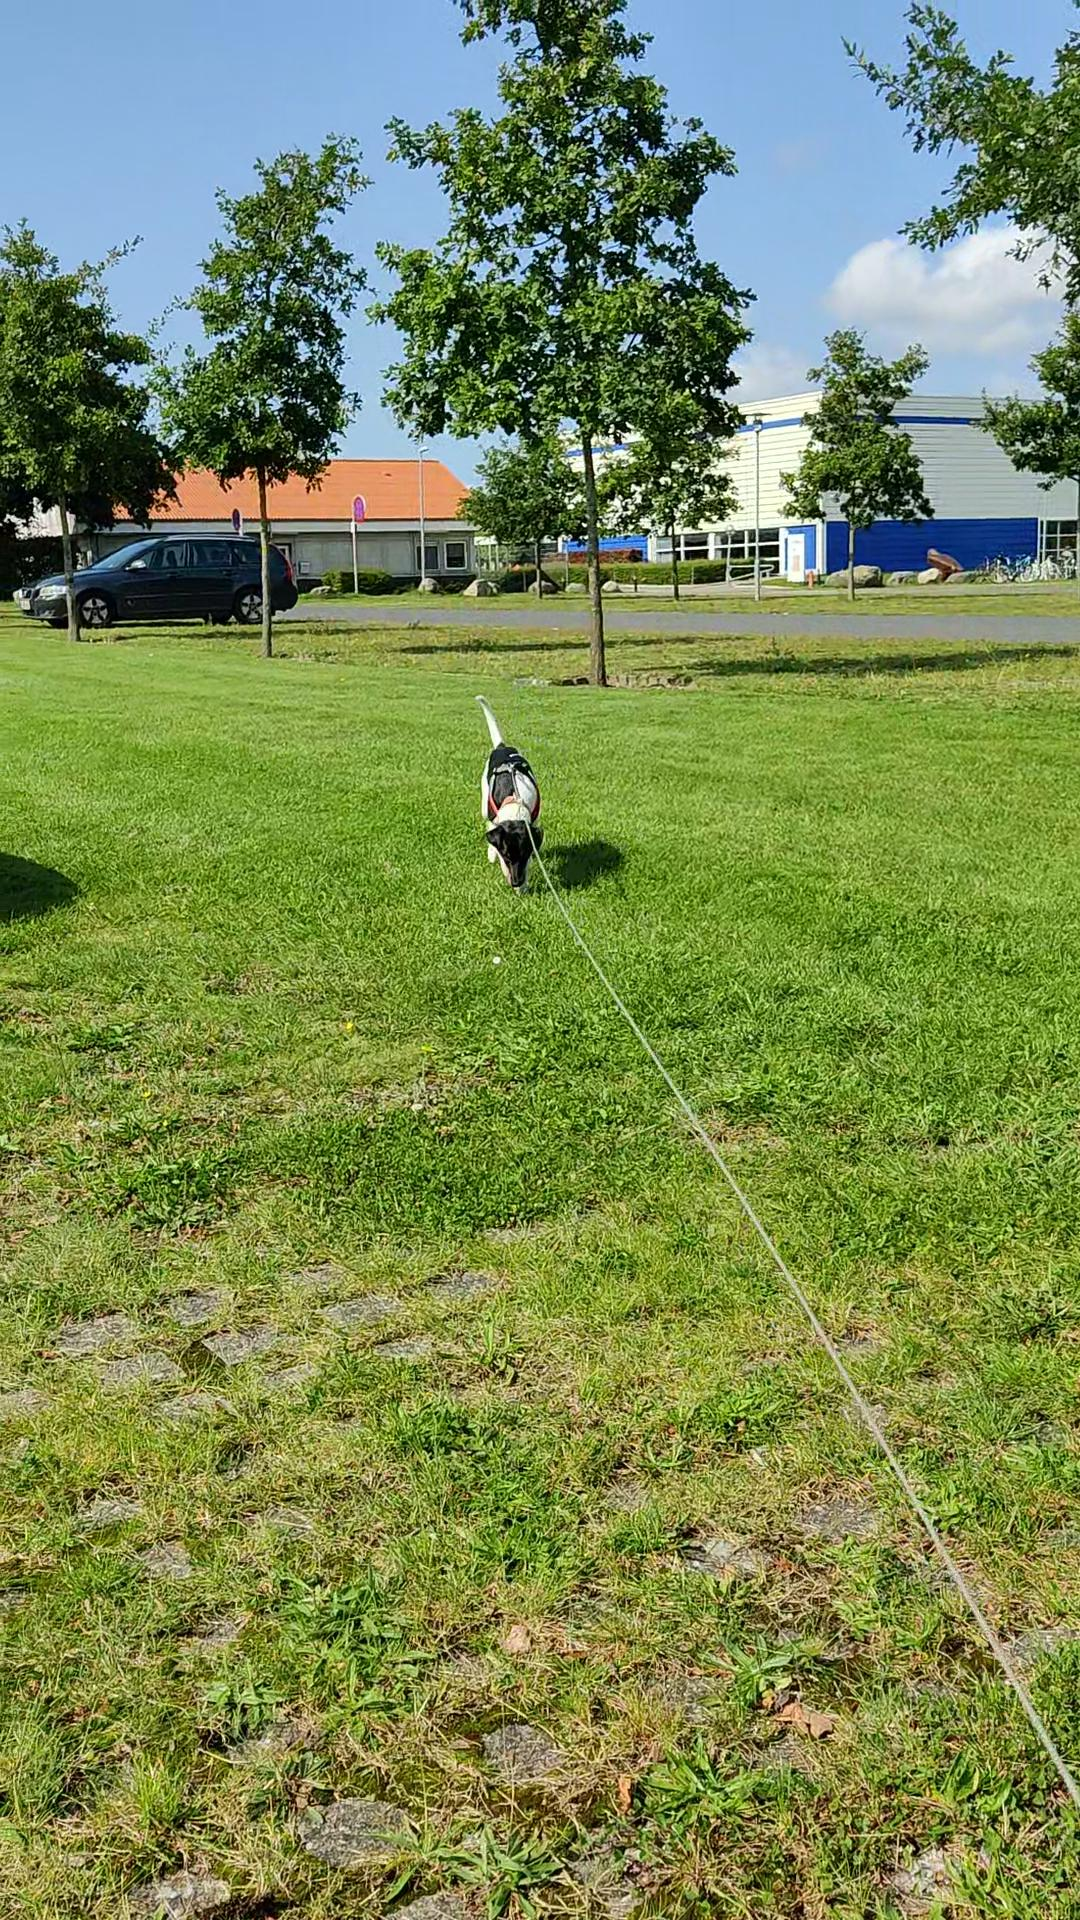Dog: (448, 684, 558, 895)
